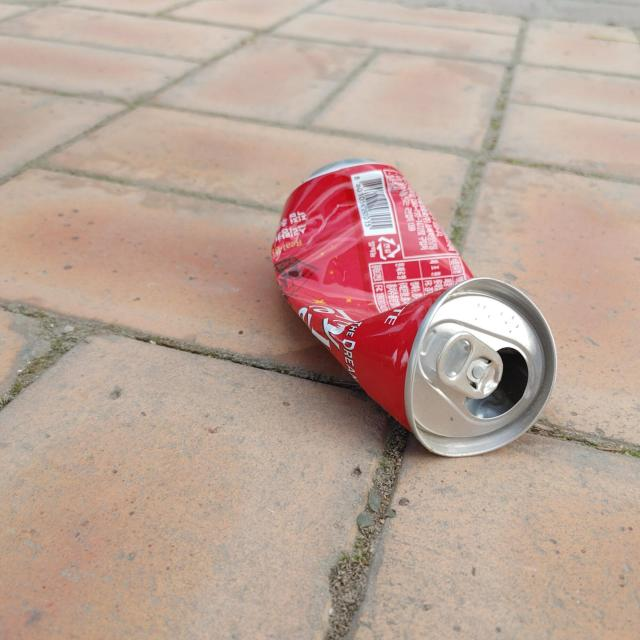can: (271, 158, 557, 457)
